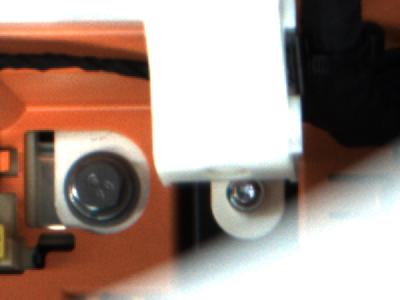nut_b: (59, 152, 143, 227)
